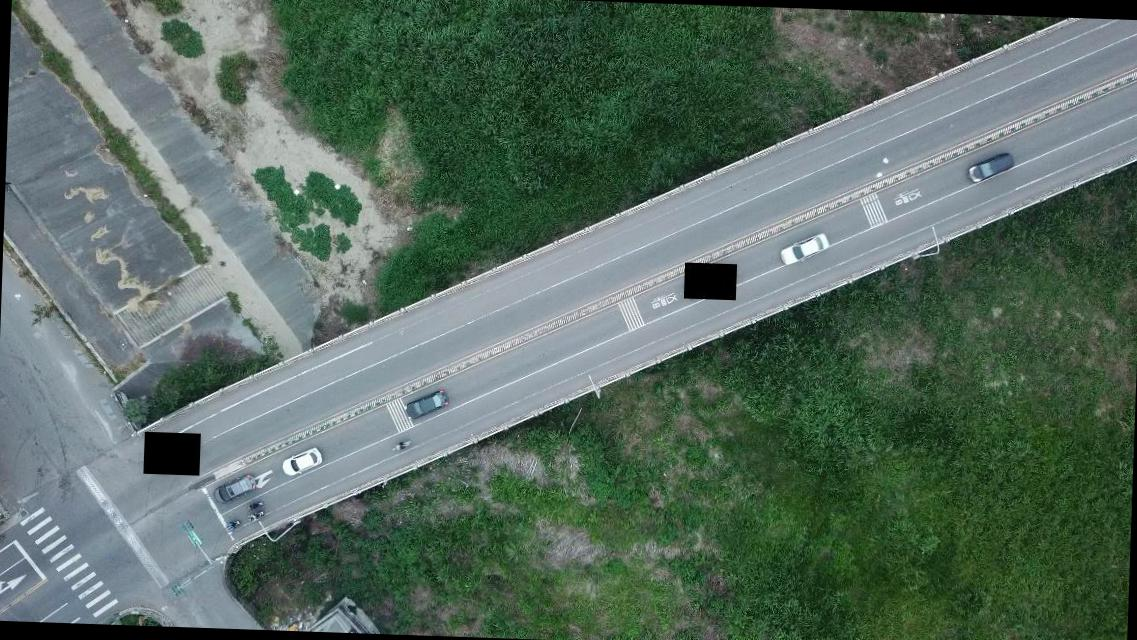vehicle: (964, 150, 1015, 186), (778, 232, 828, 265), (402, 388, 451, 420), (212, 474, 256, 504), (281, 446, 324, 476)
